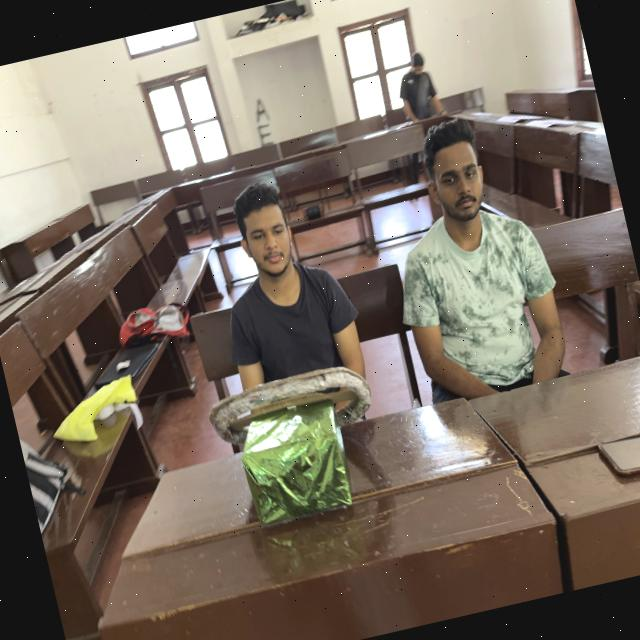no-seatbelt: (386, 190, 586, 430), (213, 252, 390, 472)
